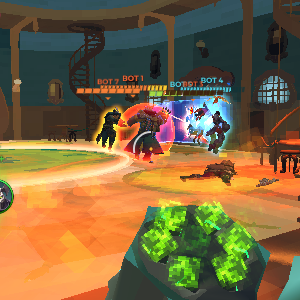model: (124, 101, 172, 162), (94, 106, 123, 155)
